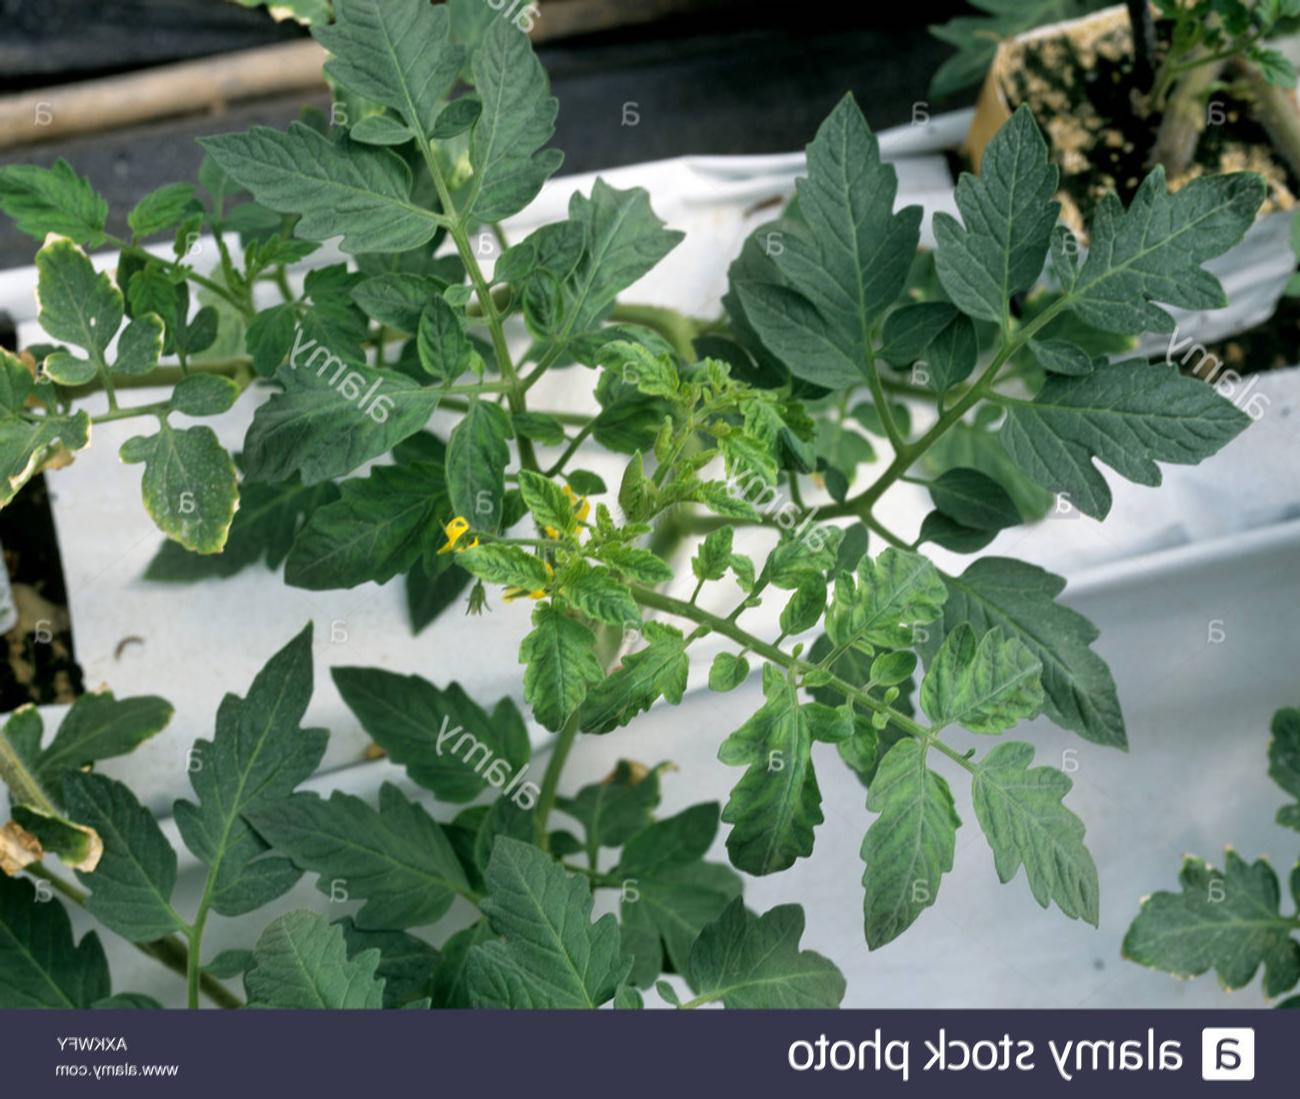Tomato leaf yellow virus: (510, 597, 600, 735), (539, 564, 646, 638), (445, 538, 573, 593)
